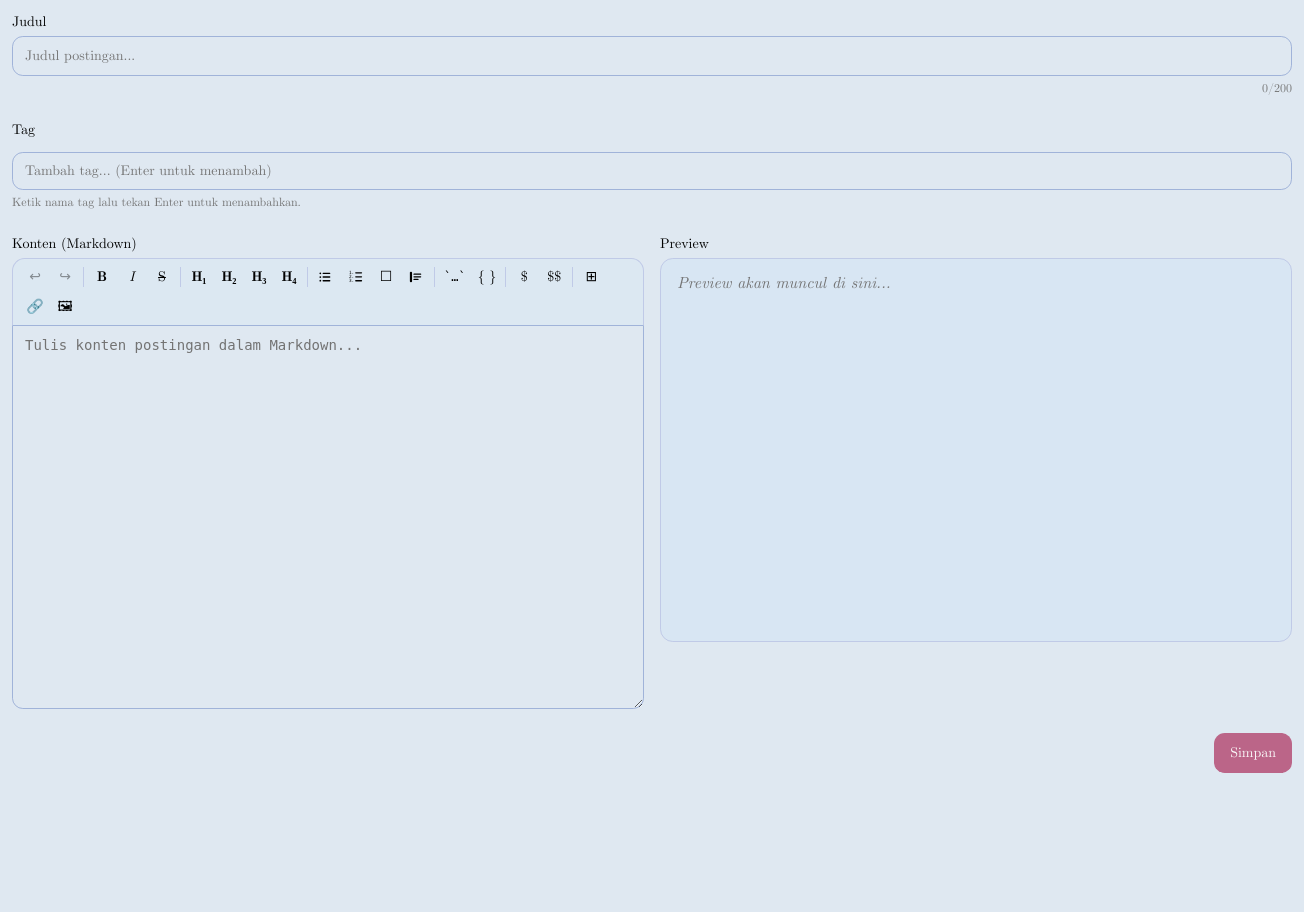
Test: PostEditor › renders Markdown preview when content is typed
Type "# Heading Satu" into the text box labelled "Konten (Markdown)". click: (328,517)
box: top-left (12, 325), bottom-right (644, 709)
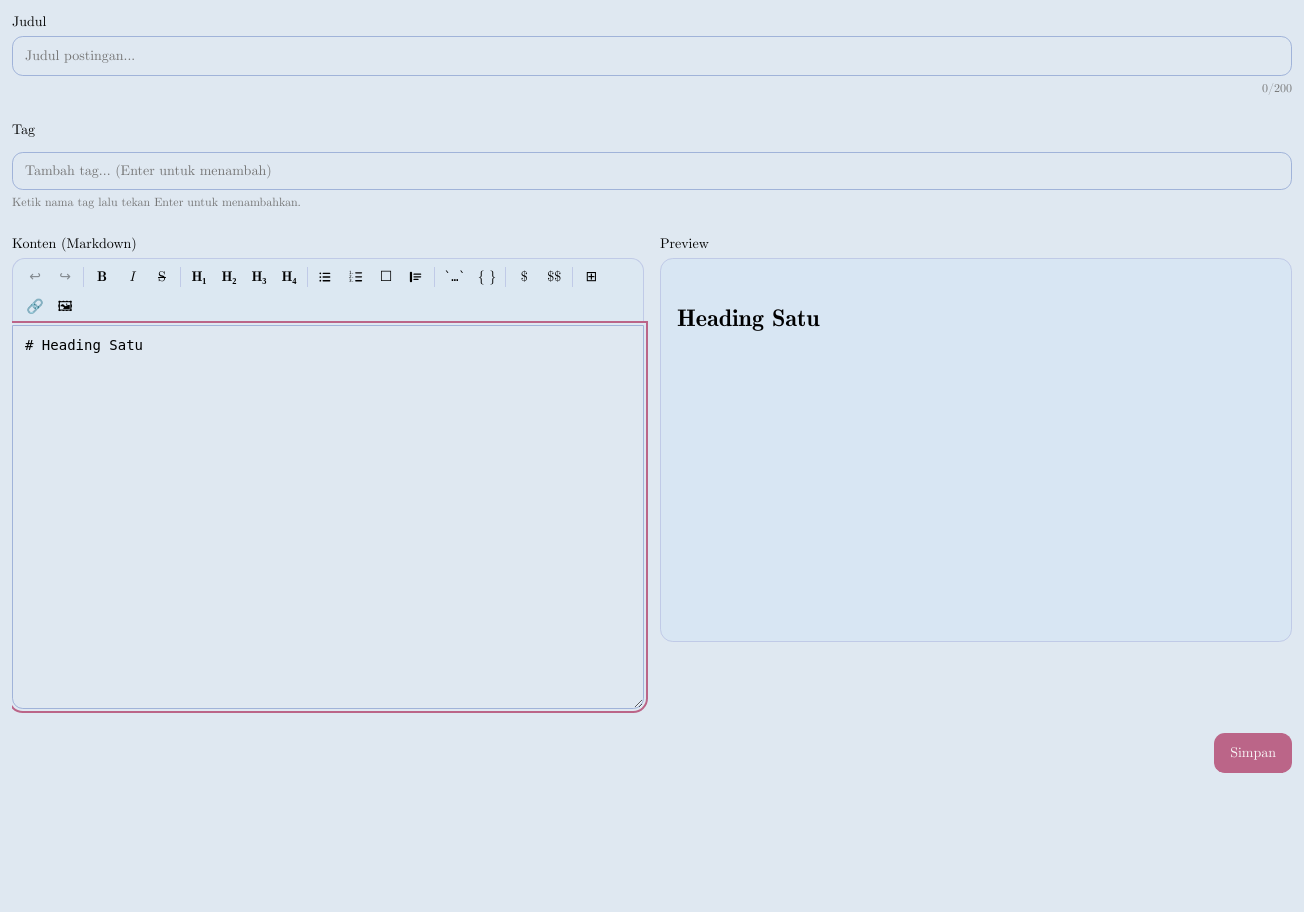
Now the heading "Heading Satu" is shown, box top-left (677, 307), bottom-right (820, 331)
